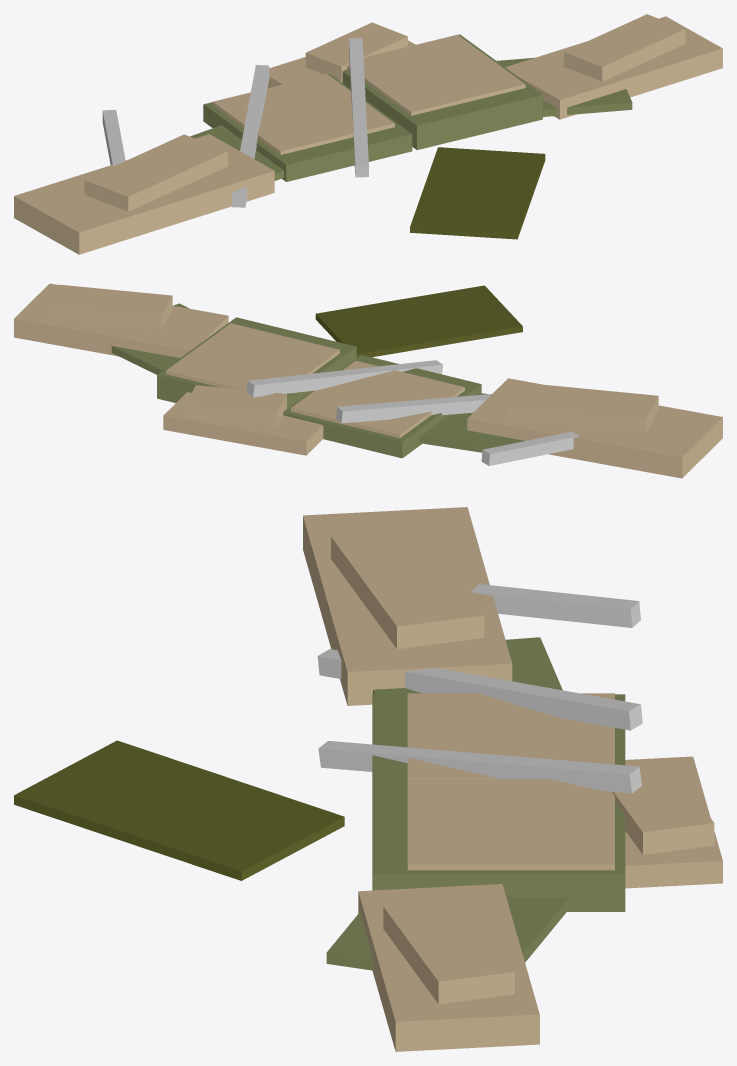
Rendered from SM_HescoCorto2_v4_Red_e3_Brecha_LOD1.fbx.
3 views of the same model, one above another, from view 1: azimuth 30°, elevation 25°; view 2: azimuth 150°, elevation 25°; view 3: azimuth 270°, elevation 25° (orthographic). The views are drawn at different scales.
Parts seen in each view (by area): view 1: SM_hesco_piezas_v79_LOD1; view 2: SM_hesco_piezas_v79_LOD1; view 3: SM_hesco_piezas_v79_LOD1.
Boxes of the visible parts, x1=… form: SM_hesco_piezas_v79_LOD1: x1=14, y1=14, x2=722, y2=254; SM_hesco_piezas_v79_LOD1: x1=14, y1=283, x2=722, y2=478; SM_hesco_piezas_v79_LOD1: x1=14, y1=507, x2=722, y2=1051.
Bounding box in the file's own units: 5.83 × 0.351 × 3.42.
